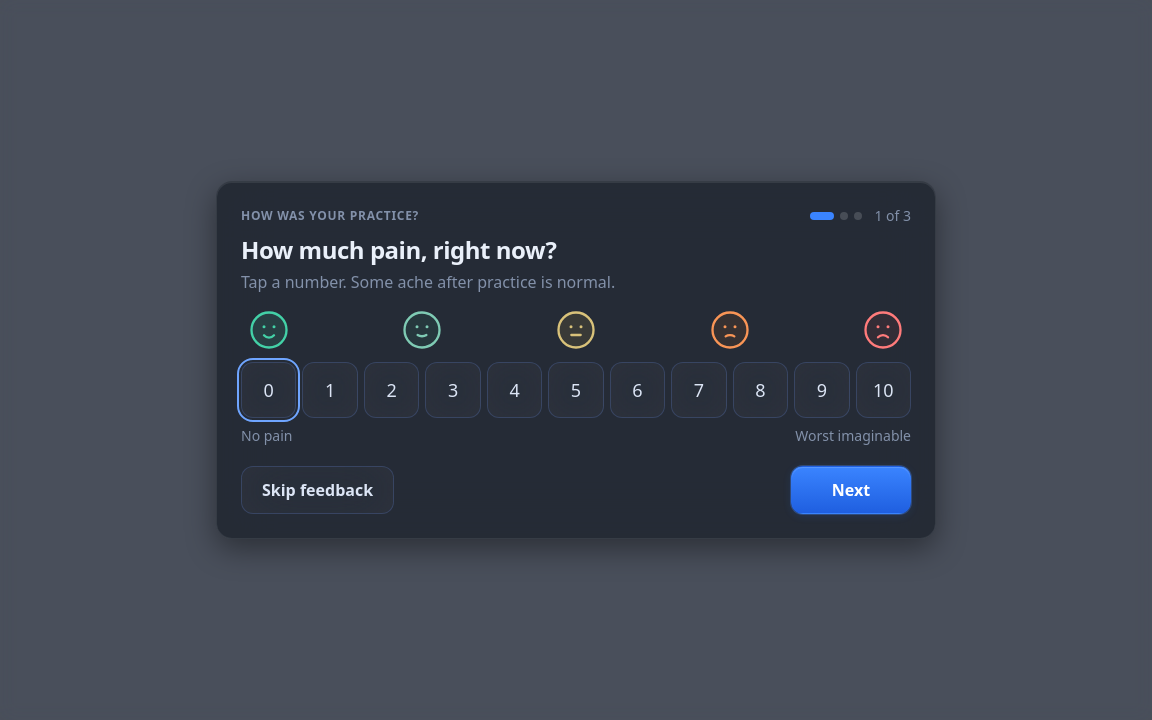
it: the therapist line follows the prescription pain_max, not a literal
Click the radio button labelled "5".
click(576, 390)  # box [548, 362, 604, 418]
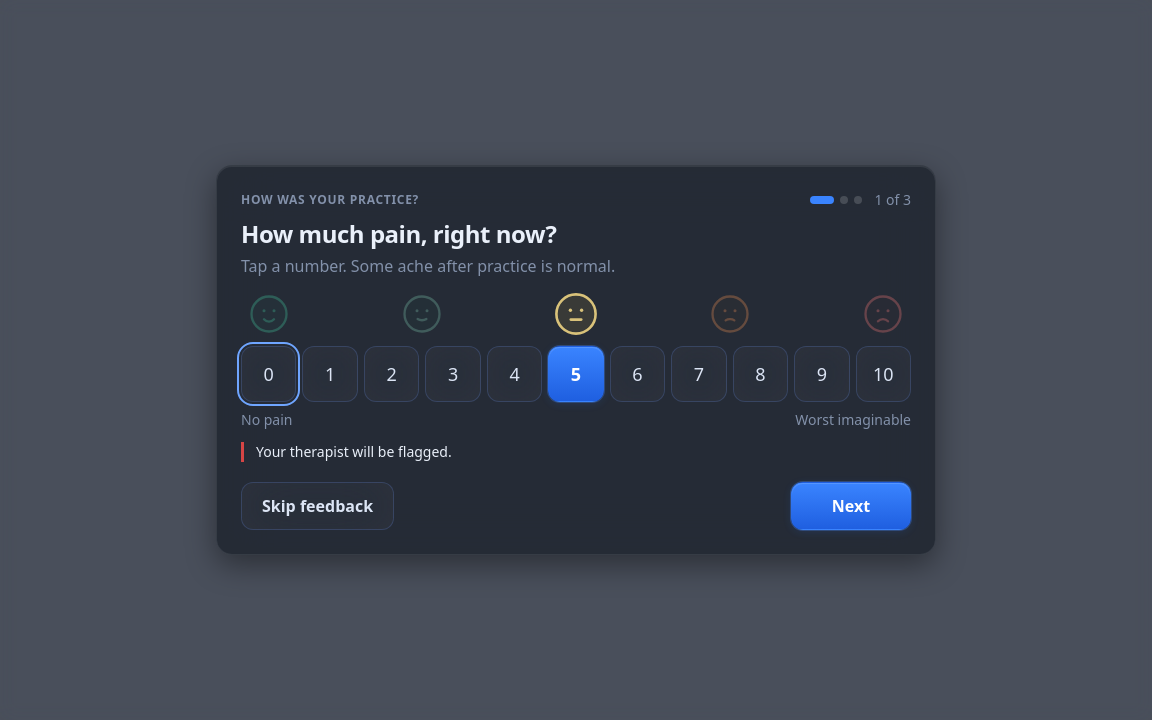
Check: the text "Your therapist will be flagged." is shown, box [241, 442, 911, 462]
Click the radio button labelled "4".
click(515, 374)  # box [487, 346, 542, 402]
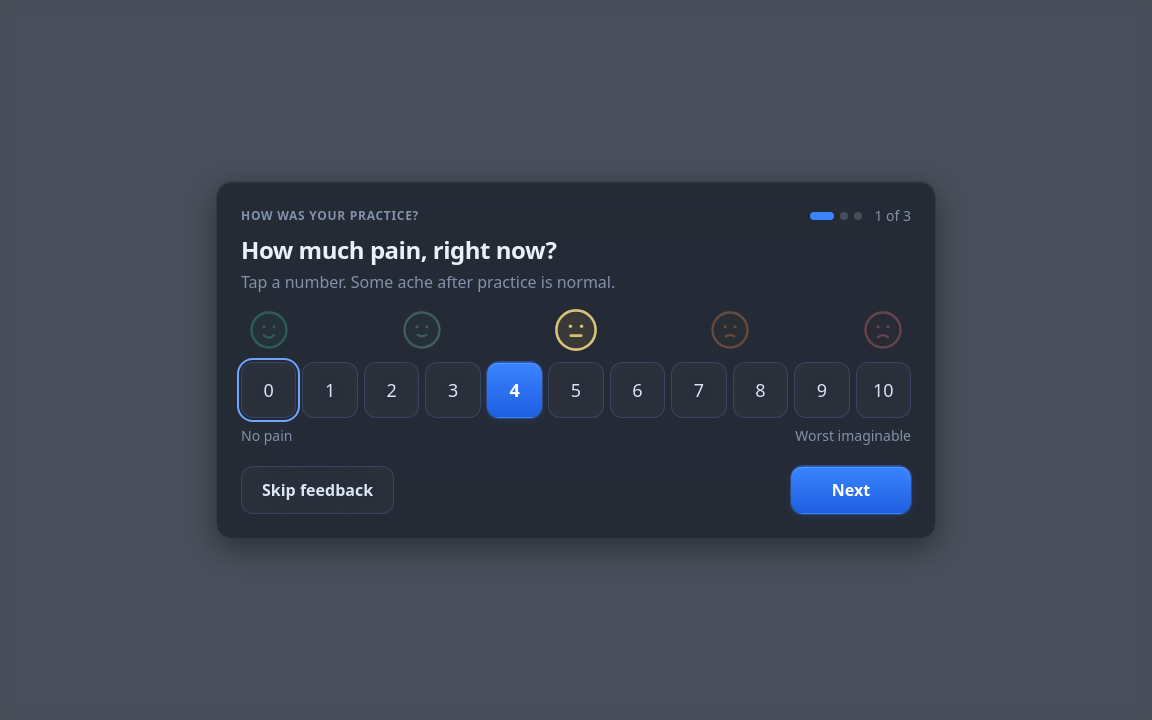
Check: the text "Your therapist will be flagged." is gone
